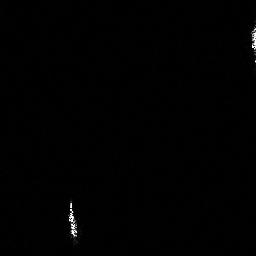ship: (63, 198, 83, 241)
